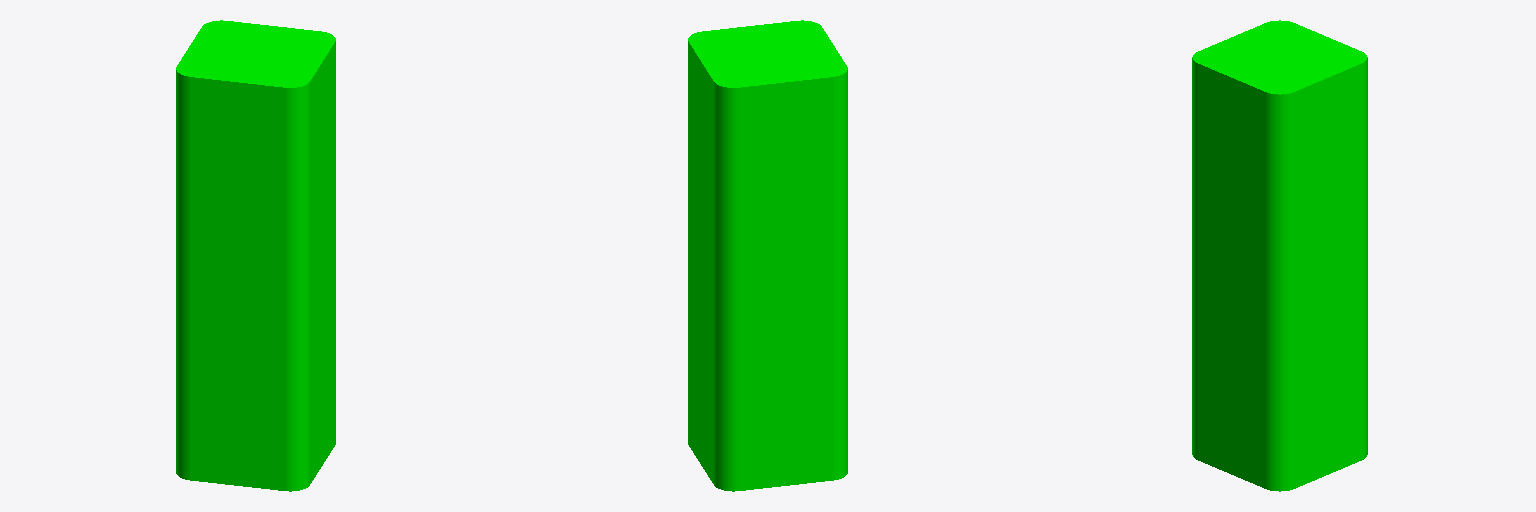
URDF robot description (panda):
<?xml version="1.0" ?>
<!-- =================================================================================== -->
<!-- |    This document was autogenerated by xacro from panda_arm_hand.urdf.xacro      | -->
<!-- |    EDITING THIS FILE BY HAND IS NOT RECOMMENDED                                 | -->
<!-- =================================================================================== -->
<robot name="panda" xmlns:xacro="http://www.ros.org/wiki/xacro">
  <link name="panda_link0">
  	<inertial>
      <origin rpy="0 0 0" xyz="0 0 0.05"/>
       <mass value="2.9"/>
       <inertia ixx="0.1" ixy="0" ixz="0" iyy="0.1" iyz="0" izz="0.1"/>
    </inertial>
    <visual>
      <geometry>
        <mesh filename="franka_panda/meshes/collision/link0.obj"/>
      </geometry>
      <material name="panda_white">
    		<color rgba="1. 1. 1. 1."/>
  		</material>
    </visual>
    <collision>
      <geometry>
        <mesh filename="franka_panda/meshes/collision/link0.obj"/>
      </geometry>
      <material name="panda_white"/>
    </collision>
  </link>
  <link name="panda_link1">
  	<inertial>
      <origin rpy="0 0 0" xyz="0 -0.04 -0.05"/>
       <mass value="2.7"/>
       <inertia ixx="0.1" ixy="0" ixz="0" iyy="0.1" iyz="0" izz="0.1"/>
    </inertial>
    <visual>
      <geometry>
        <mesh filename="franka_panda/meshes/visual/link1.obj"/>
      </geometry>
      <material name="panda_white"/>
    </visual>
    <collision>
      <geometry>
        <mesh filename="franka_panda/meshes/collision/link1.obj"/>
      </geometry>
      <material name="panda_white"/>
    </collision>
  </link>
  <joint name="panda_joint1" type="revolute">
    <safety_controller k_position="100.0" k_velocity="40.0" soft_lower_limit="-2.8973" soft_upper_limit="2.8973"/>
    <origin rpy="0 0 0" xyz="0 0 0.333"/>
    <parent link="panda_link0"/>
    <child link="panda_link1"/>
    <axis xyz="0 0 1"/>
    <limit effort="87" lower="-2.9671" upper="2.9671" velocity="2.1750"/>
  </joint>
  <link name="panda_link2">
  	<inertial>
      <origin rpy="0 0 0" xyz="0 -0.04 0.06"/>
       <mass value="2.73"/>
       <inertia ixx="0.1" ixy="0" ixz="0" iyy="0.1" iyz="0" izz="0.1"/>
    </inertial>
    <visual>
      <geometry>
        <mesh filename="franka_panda/meshes/visual/link2.obj"/>
      </geometry>
      <material name="panda_white"/>
    </visual>
    <collision>
      <geometry>
        <mesh filename="franka_panda/meshes/collision/link2.obj"/>
      </geometry>
      <material name="panda_white"/>
    </collision>
  </link>
  <joint name="panda_joint2" type="revolute">
    <safety_controller k_position="100.0" k_velocity="40.0" soft_lower_limit="-1.7628" soft_upper_limit="1.7628"/>
    <origin rpy="-1.57079632679 0 0" xyz="0 0 0"/>
    <parent link="panda_link1"/>
    <child link="panda_link2"/>
    <axis xyz="0 0 1"/>
    <limit effort="87" lower="-1.8326" upper="1.8326" velocity="2.1750"/>
  </joint>
  <link name="panda_link3">
	  <inertial>
      <origin rpy="0 0 0" xyz="0.01 0.01 -0.05"/>
       <mass value="2.04"/>
       <inertia ixx="0.1" ixy="0" ixz="0" iyy="0.1" iyz="0" izz="0.1"/>
    </inertial>
    <visual>
      <geometry>
        <mesh filename="franka_panda/meshes/visual/link3.obj"/>
      </geometry>
      <material name="panda_red">
    		<color rgba="1. 1. 1. 1."/>
  		</material>
    </visual>
    <collision>
      <geometry>
        <mesh filename="franka_panda/meshes/collision/link3.obj"/>
      </geometry>
    </collision>
  </link>
  <joint name="panda_joint3" type="revolute">
    <safety_controller k_position="100.0" k_velocity="40.0" soft_lower_limit="-2.8973" soft_upper_limit="2.8973"/>
    <origin rpy="1.57079632679 0 0" xyz="0 -0.316 0"/>
    <parent link="panda_link2"/>
    <child link="panda_link3"/>
    <axis xyz="0 0 1"/>
    <limit effort="87" lower="-2.9671" upper="2.9671" velocity="2.1750"/>
  </joint>
  <link name="panda_link4">
  	<inertial>
      <origin rpy="0 0 0" xyz="-0.03 0.03 0.02"/>
       <mass value="2.08"/>
       <inertia ixx="0.1" ixy="0" ixz="0" iyy="0.1" iyz="0" izz="0.1"/>
    </inertial>
    <visual>
      <geometry>
        <mesh filename="franka_panda/meshes/visual/link4.obj"/>
      </geometry>
      <material name="panda_white"/>
    </visual>
    <collision>
      <geometry>
        <mesh filename="franka_panda/meshes/collision/link4.obj"/>
      </geometry>
      <material name="panda_white"/>
    </collision>
  </link>
  <joint name="panda_joint4" type="revolute">
    <safety_controller k_position="100.0" k_velocity="40.0" soft_lower_limit="-3.0718" soft_upper_limit="-0.0698"/>
    <origin rpy="1.57079632679 0 0" xyz="0.0825 0 0"/>
    <parent link="panda_link3"/>
    <child link="panda_link4"/>
    <axis xyz="0 0 1"/>
    <limit effort="87" lower="-3.1416" upper="0.0" velocity="2.1750"/>
  </joint>
  <link name="panda_link5">
  	<inertial>
      <origin rpy="0 0 0" xyz="0 0.04 -0.12"/>
       <mass value="3"/>
       <inertia ixx="0.1" ixy="0" ixz="0" iyy="0.1" iyz="0" izz="0.1"/>
    </inertial>
    <visual>
      <geometry>
        <mesh filename="franka_panda/meshes/visual/link5.obj"/>
      </geometry>
      <material name="panda_white"/>
    </visual>
    <collision>
      <geometry>
        <mesh filename="franka_panda/meshes/collision/link5.obj"/>
      </geometry>
      <material name="panda_white"/>
    </collision>
  </link>
  <joint name="panda_joint5" type="revolute">
    <safety_controller k_position="100.0" k_velocity="40.0" soft_lower_limit="-2.8973" soft_upper_limit="2.8973"/>
    <origin rpy="-1.57079632679 0 0" xyz="-0.0825 0.384 0"/>
    <parent link="panda_link4"/>
    <child link="panda_link5"/>
    <axis xyz="0 0 1"/>
    <limit effort="12" lower="-2.9671" upper="2.9671" velocity="2.6100"/>
  </joint>
  <link name="panda_link6">
  	<inertial>
      <origin rpy="0 0 0" xyz="0.04 0 0"/>
       <mass value="1.3"/>
       <inertia ixx="0.1" ixy="0" ixz="0" iyy="0.1" iyz="0" izz="0.1"/>
    </inertial>
    <visual>
      <geometry>
        <mesh filename="franka_panda/meshes/visual/link6.obj"/>
      </geometry>
      <material name="panda_white"/>
    </visual>
    <collision>
      <geometry>
        <mesh filename="franka_panda/meshes/collision/link6.obj"/>
      </geometry>
      <material name="panda_white"/>
    </collision>
  </link>
  <joint name="panda_joint6" type="revolute">
    <safety_controller k_position="100.0" k_velocity="40.0" soft_lower_limit="-0.0175" soft_upper_limit="3.7525"/>
    <origin rpy="1.57079632679 0 0" xyz="0 0 0"/>
    <parent link="panda_link5"/>
    <child link="panda_link6"/>
    <axis xyz="0 0 1"/>
    <limit effort="12" lower="-0.0873" upper="3.8223" velocity="2.6100"/>
  </joint>
  <link name="panda_link7">
  	<inertial>
      <origin rpy="0 0 0" xyz="0 0 0.08"/>
       <mass value=".2"/>
       <inertia ixx="0.1" ixy="0" ixz="0" iyy="0.1" iyz="0" izz="0.1"/>
    </inertial>
    <visual>
      <geometry>
        <mesh filename="franka_panda/meshes/collision/link7.obj"/>
      </geometry>
      <material name="panda_white"/>
    </visual>
    <collision>
      <geometry>
        <mesh filename="franka_panda/meshes/collision/link7.obj"/>
      </geometry>
      <material name="panda_white"/>
    </collision>
  </link>
  <joint name="panda_joint7" type="revolute">
    <safety_controller k_position="100.0" k_velocity="40.0" soft_lower_limit="-2.8973" soft_upper_limit="2.8973"/>
    <origin rpy="1.57079632679 0 0" xyz="0.088 0 0"/>
    <parent link="panda_link6"/>
    <child link="panda_link7"/>
    <axis xyz="0 0 1"/>
    <limit effort="12" lower="-2.9671" upper="2.9671" velocity="2.6100"/>
  </joint>
  <link name="panda_link8">
  	 <inertial>
      <origin rpy="0 0 0" xyz="0 0 0"/>
       <mass value="0.0"/>
       <inertia ixx="0.1" ixy="0" ixz="0" iyy="0.1" iyz="0" izz="0.1"/>
    </inertial>
  </link>
  <joint name="panda_joint8" type="fixed">
    <origin rpy="0 0 0" xyz="0 0 0.107"/>
    <parent link="panda_link7"/>
    <child link="panda_link8"/>
    <axis xyz="0 0 0"/>
  </joint>
  <joint name="panda_hand_joint" type="fixed">
    <parent link="panda_link8"/>
    <child link="panda_hand"/>
    <origin rpy="0 0 -0.785398163397" xyz="0 0 0"/>
  </joint>
  <link name="panda_hand">
  	<inertial>
      <origin rpy="0 0 0" xyz="0 0 0.04"/>
       <mass value=".81"/>
       <inertia ixx="0.1" ixy="0" ixz="0" iyy="0.1" iyz="0" izz="0.1"/>
    </inertial>
    <visual>
      <geometry>
        <mesh filename="franka_panda/meshes/visual/hand.obj"/>
      </geometry>
      <material name="panda_white"/>
    </visual>
    <collision>
      <geometry>
        <mesh filename="franka_panda/meshes/collision/hand.obj"/>
      </geometry>
      <material name="panda_white"/>
    </collision>
  </link>
  <link name="panda_leftfinger">
       <contact>
      <friction_anchor/>
      <stiffness value="30000.0"/>
      <damping value="1000.0"/>
      <spinning_friction value="0.1"/>
      <lateral_friction value="1.0"/>
    </contact>
  	<inertial>
      <origin rpy="0 0 0" xyz="0 0.01 0.02"/>
       <mass value="0.1"/>
       <inertia ixx="0.1" ixy="0" ixz="0" iyy="0.1" iyz="0" izz="0.1"/>
    </inertial>
    <visual>
      <geometry>
        <mesh filename="franka_panda/meshes/visual/finger.obj"/>
      </geometry>
      <material name="panda_white"/>
    </visual>
    <collision>
      <geometry>
        <mesh filename="franka_panda/meshes/collision/finger.obj"/>
      </geometry>
      <material name="panda_white"/>
    </collision>
  </link>
  <link name="panda_rightfinger">
        <contact>
      <friction_anchor/>
      <stiffness value="30000.0"/>
      <damping value="1000.0"/>
      <spinning_friction value="0.1"/>
      <lateral_friction value="1.0"/>
    </contact>

  	<inertial>
      <origin rpy="0 0 0" xyz="0 -0.01 0.02"/>
       <mass value="0.1"/>
       <inertia ixx="0.1" ixy="0" ixz="0" iyy="0.1" iyz="0" izz="0.1"/>
    </inertial>
    <visual>
      <origin rpy="0 0 3.14159265359" xyz="0 0 0"/>
      <geometry>
        <mesh filename="franka_panda/meshes/visual/finger.obj"/>
      </geometry>
      <material name="panda_white"/>
    </visual>
    <collision>
      <origin rpy="0 0 3.14159265359" xyz="0 0 0"/>
      <geometry>
        <mesh filename="franka_panda/meshes/collision/finger.obj"/>
      </geometry>
      <material name="panda_white"/>
    </collision>
  </link>
  <joint name="panda_finger_joint1" type="prismatic">
    <parent link="panda_hand"/>
    <child link="panda_leftfinger"/>
    <origin rpy="0 0 0" xyz="0 0 0.0584"/>
    <axis xyz="0 1 0"/>
    <limit effort="20" lower="0.0" upper="0.04" velocity="0.2"/>
  </joint>
  <joint name="panda_finger_joint2" type="prismatic">
    <parent link="panda_hand"/>
    <child link="panda_rightfinger"/>
    <origin rpy="0 0 0" xyz="0 0 0.0584"/>
    <axis xyz="0 -1 0"/>
    <limit effort="20" lower="0.0" upper="0.04" velocity="0.2"/>
    <mimic joint="panda_finger_joint1"/>
  </joint>

 <link name="panda_grasptarget">
  <inertial>
      <origin rpy="0 0 0" xyz="0 0 0"/>
       <mass value="0.0"/>
       <inertia ixx="0.1" ixy="0" ixz="0" iyy="0.1" iyz="0" izz="0.1"/>
    </inertial>
   </link>
 <joint name="panda_grasptarget_hand" type="fixed">
    <parent link="panda_hand"/>
    <child link="panda_grasptarget"/>
    <origin rpy="0 0 0" xyz="0 0 0.105"/>
  </joint>


 <link name="peg">
  <inertial>
      <origin rpy="0 0 0" xyz="0 0 0"/>
       <mass value="0.1"/>
       <inertia ixx="0.1" ixy="0" ixz="0" iyy="0.1" iyz="0" izz="0.1"/>
    </inertial>
    <visual>
      <origin rpy="0 0 -1.57079632679" xyz="0 0 0"/>
      <geometry>
        <mesh filename="peg.obj"/>
      </geometry>
      <material name="green">
        <color rgba="0. 1. 0. 1."/>
      </material>
    </visual>
    <collision>
      <origin rpy="0 0 -1.57079632679" xyz="0 0 0"/>
      <geometry>
        <mesh filename="peg.obj"/>
      </geometry>
      <material name="green"/>
    </collision>
   </link>

 <joint name="peg_grasptarget_hand" type="fixed">
    <parent link="panda_grasptarget"/>
    <child link="peg"/>
    <origin rpy="0 0 0" xyz="0 0 0.066"/>
  </joint>


  
</robot>

--- Render facts (derived) ---
Views: 3 orthographic renders of the robot side by side, from view 1: azimuth 30°, elevation 25°; view 2: azimuth 150°, elevation 25°; view 3: azimuth 270°, elevation 25°.
Model panda with 14 links and 13 joints (7 revolute, 2 prismatic, 4 fixed), rooted at panda_link0, posed every joint at zero.
Links seen in each view (by area): view 1: peg; view 2: peg; view 3: peg.
Link boxes in pixels (<box>): peg: <box>176,20,335,491</box>; peg: <box>688,20,847,491</box>; peg: <box>1192,20,1367,491</box>.
Bounding box of the posed robot: 0.024 × 0.024 × 0.06 m (x, y, z).
1 mesh visuals loaded from 11 distinct referenced files (1 OBJ); not drawn: 11 (reference not matched to a file when rendering).